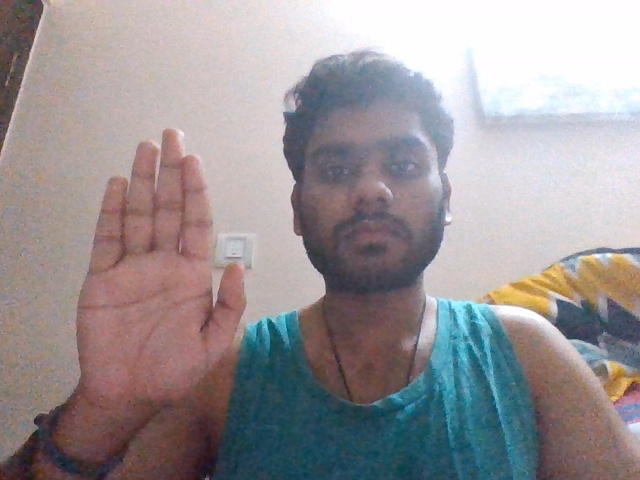hello: (71, 125, 248, 409)
